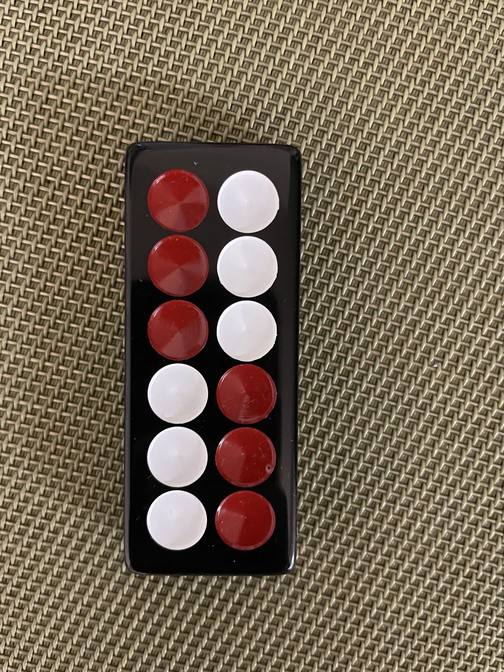heaven: (124, 144, 300, 577)
